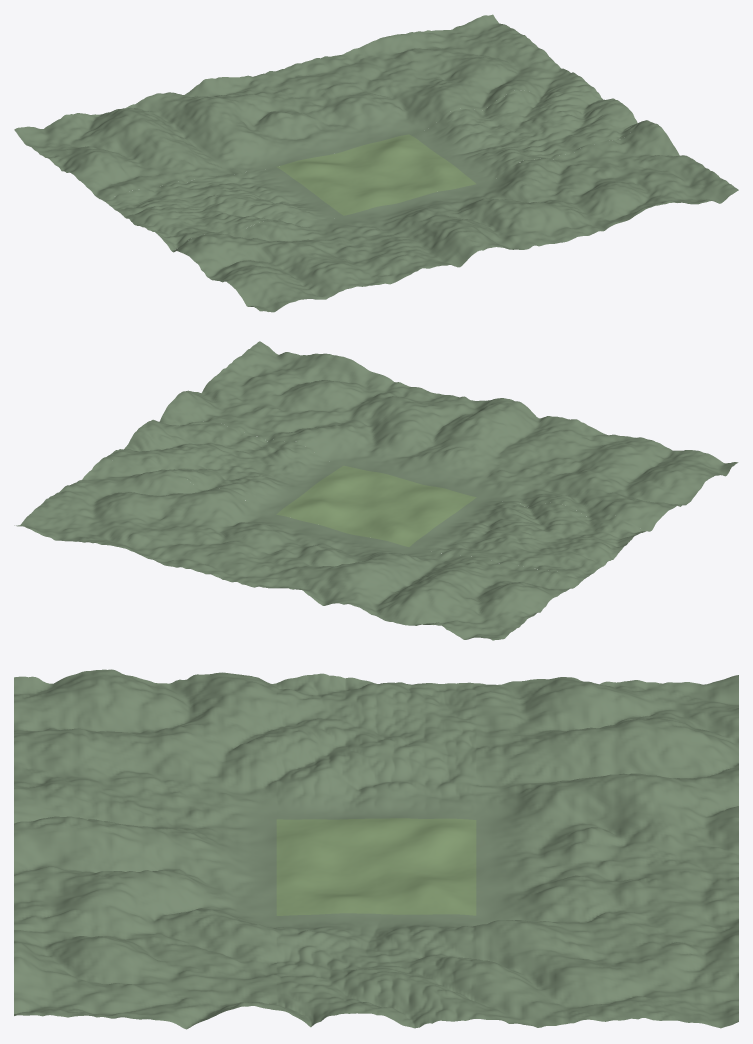
File: location3_terrain.glb
The picture shows the model from 3 angles, top to bottom: view 1: azimuth 30°, elevation 25°; view 2: azimuth 150°, elevation 25°; view 3: azimuth 270°, elevation 25°; orthographic projection. The views are drawn at different scales.
Visible parts, largest first — view 1: Location3_DistantMountains, Location3_Ground; view 2: Location3_DistantMountains, Location3_Ground; view 3: Location3_DistantMountains, Location3_Ground.
Boxes of the visible parts, bbox=[...] form: Location3_DistantMountains: bbox=[14, 14, 738, 312]; Location3_Ground: bbox=[276, 134, 476, 215]; Location3_DistantMountains: bbox=[14, 341, 738, 640]; Location3_Ground: bbox=[276, 465, 476, 546]; Location3_DistantMountains: bbox=[14, 669, 738, 1029]; Location3_Ground: bbox=[276, 818, 476, 915].
Size of the model in its own units: 1800 by 99.95 by 1600.
